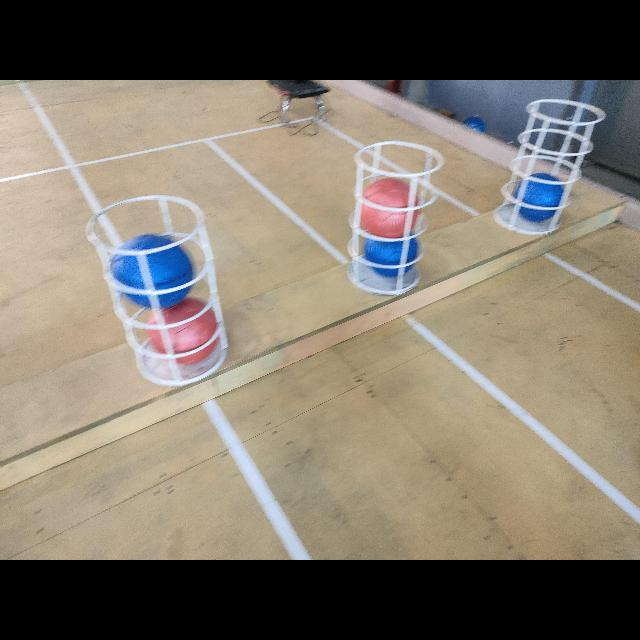B: (109, 233, 195, 309), (364, 230, 420, 278), (514, 174, 566, 222)
R: (150, 300, 218, 364), (360, 178, 420, 236)
